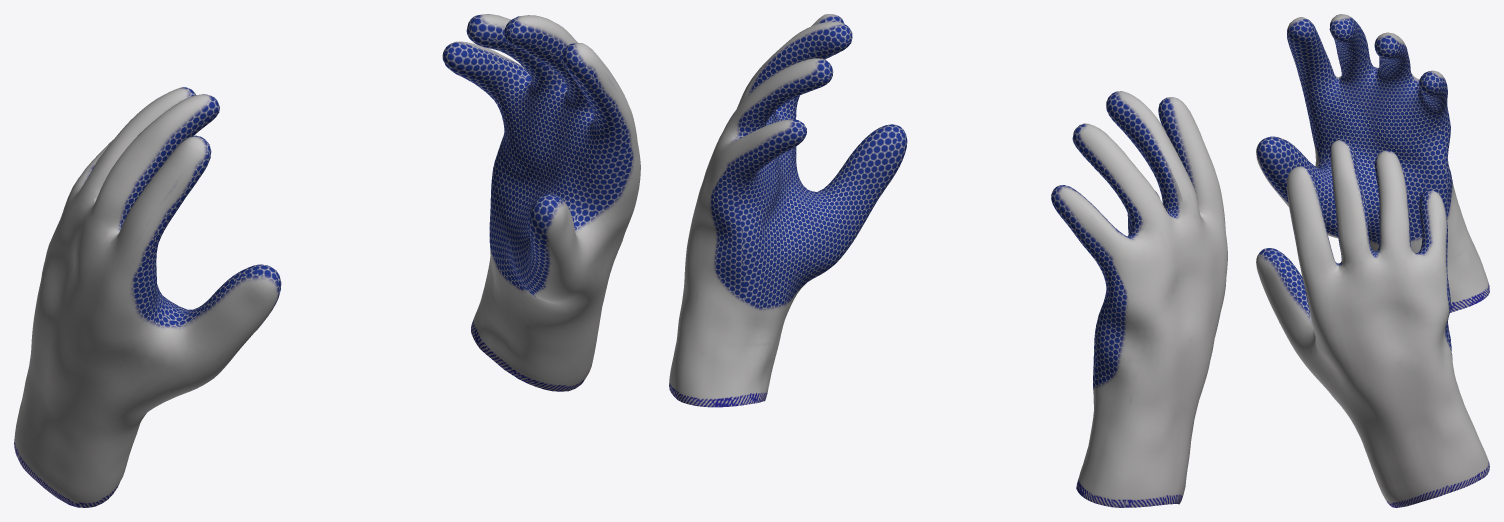
Rendered from work_gloves.glb.
The picture shows the model from 3 angles, left to right: view 1: azimuth 30°, elevation 25°; view 2: azimuth 150°, elevation 25°; view 3: azimuth 270°, elevation 25°; orthographic projection. The views are drawn at different scales.
Visible parts, largest first — view 1: cloveLP_0; view 2: cloveLP_0; view 3: cloveLP_0.
Boxes of the visible parts, x1,y1,x2,y2 form: cloveLP_0: (14,14,640,507); cloveLP_0: (669,14,1227,507); cloveLP_0: (1256,14,1489,507).
Bounding box in the file's own units: 57.54 × 40.74 × 26.12.
Materials: 1 (1 with a texture image).
